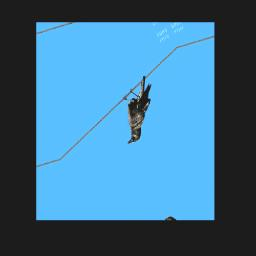Crow: (107, 73, 168, 148)
